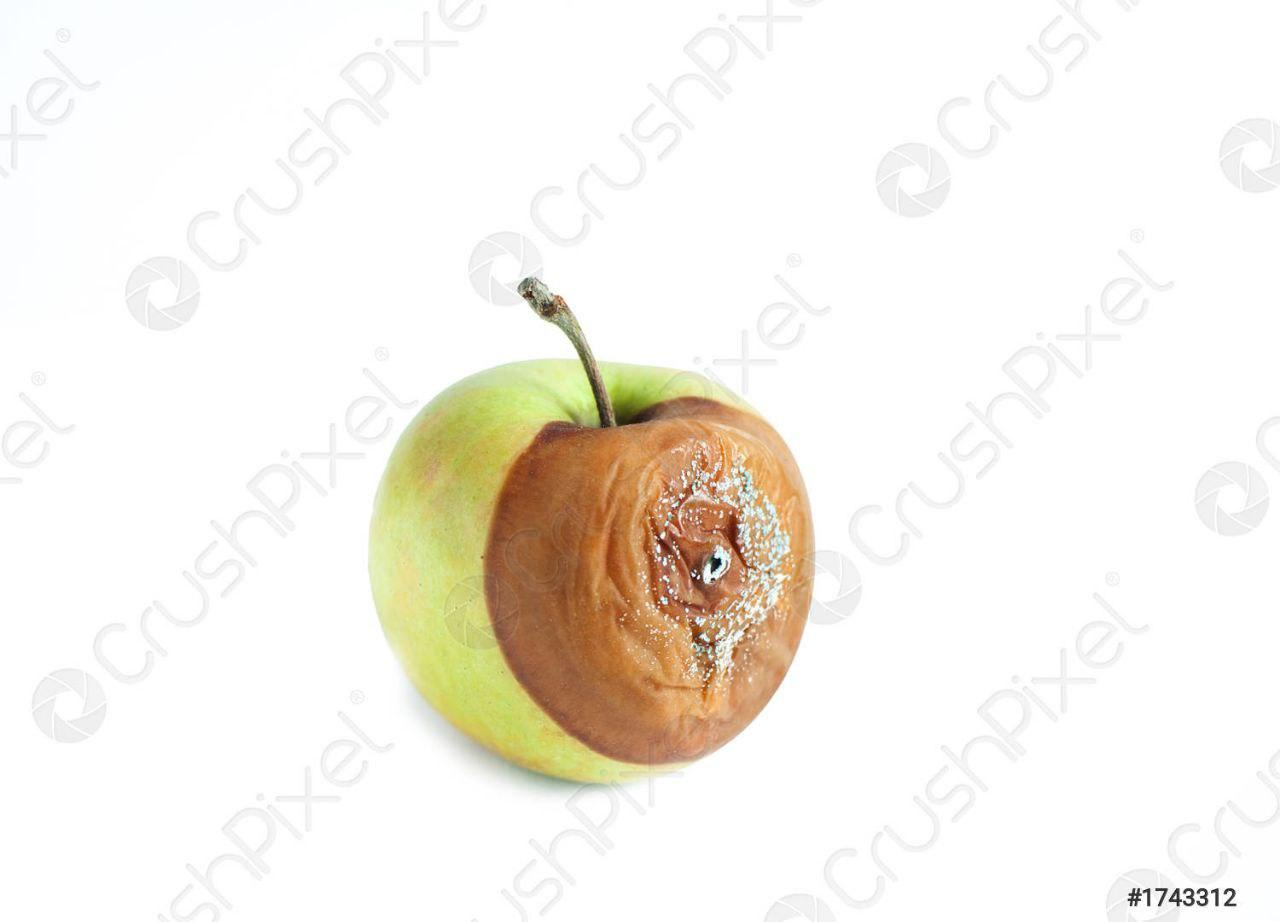Apple: (369, 360, 813, 792)
